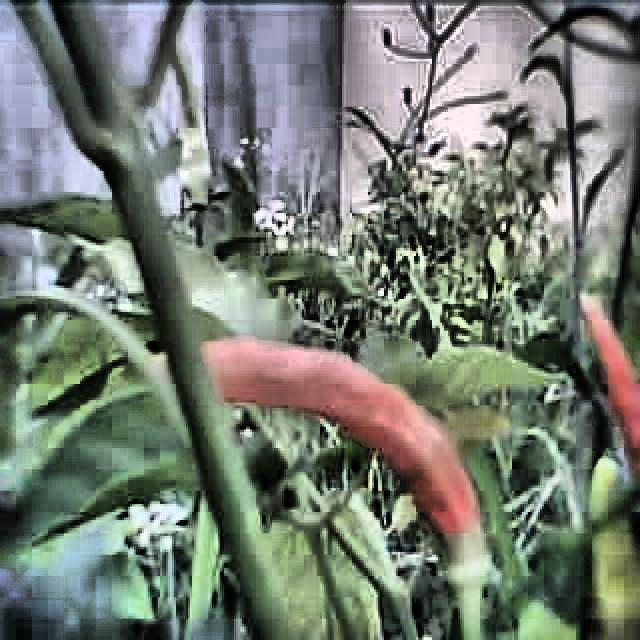Cabai: (203, 338, 484, 554)
